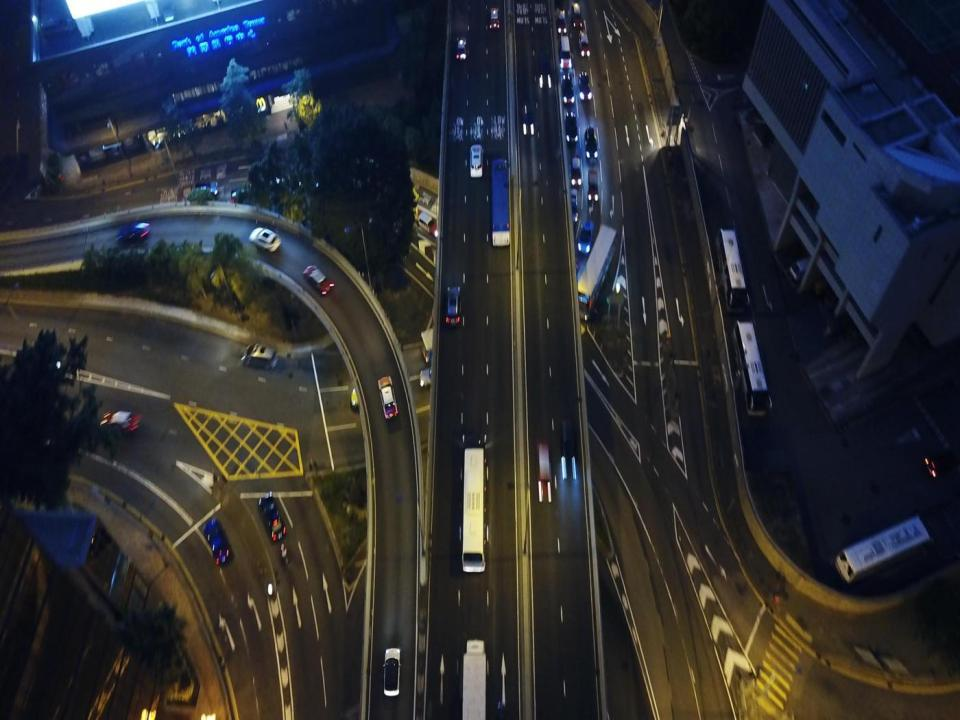bus: (834, 515, 930, 584), (574, 224, 616, 321), (730, 320, 772, 417), (714, 226, 749, 314), (462, 448, 486, 573), (491, 159, 510, 245), (790, 256, 825, 281)
car: (204, 519, 232, 565), (258, 492, 285, 539), (559, 415, 577, 481), (302, 265, 334, 296), (377, 374, 398, 419), (538, 438, 552, 502), (99, 411, 140, 432), (383, 648, 401, 695), (115, 221, 150, 243), (413, 208, 440, 236), (351, 388, 385, 408), (230, 185, 264, 203), (538, 49, 552, 89), (578, 221, 593, 254), (521, 98, 534, 136), (584, 127, 598, 158), (565, 110, 578, 142), (587, 169, 599, 202), (579, 71, 592, 100), (570, 156, 582, 186), (562, 75, 574, 104), (578, 31, 590, 57), (456, 36, 467, 60), (572, 2, 582, 27), (489, 8, 500, 30), (493, 702, 503, 719)
truck: (462, 641, 487, 719)
van: (241, 344, 277, 371), (248, 227, 281, 252), (447, 286, 460, 324), (558, 35, 572, 68), (470, 144, 483, 178), (566, 189, 578, 223), (191, 182, 217, 195), (555, 7, 567, 35)
